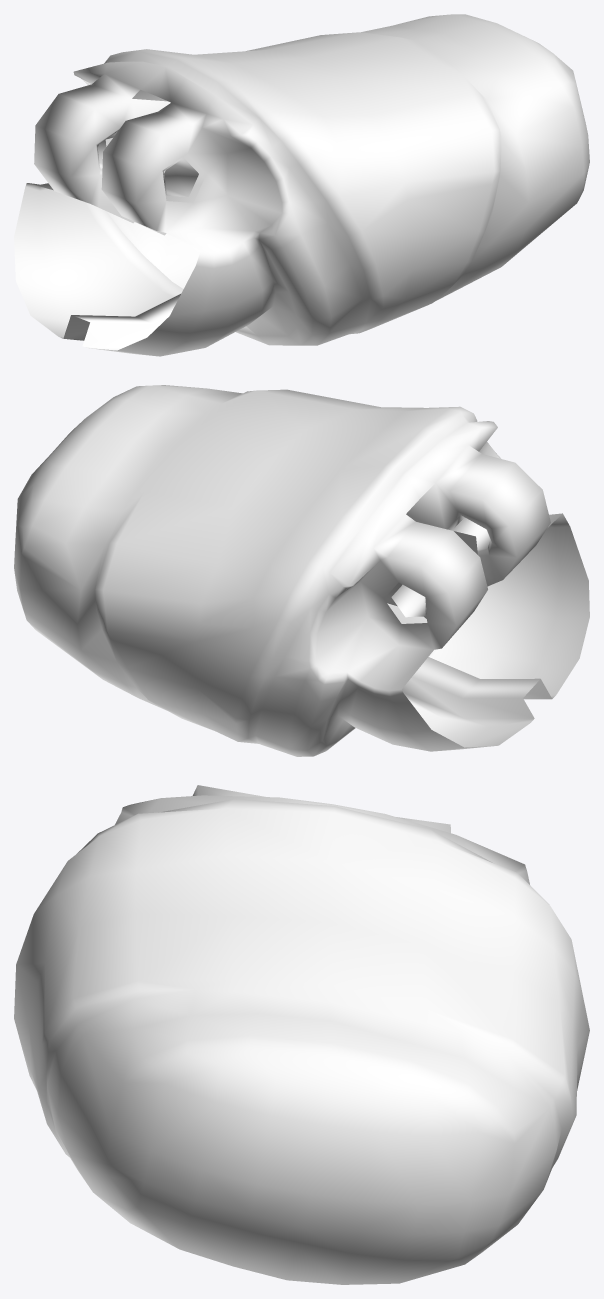
The model's file is RFinger13.dae.
3 views of the same model, one above another, from view 1: azimuth 30°, elevation 25°; view 2: azimuth 150°, elevation 25°; view 3: azimuth 270°, elevation 25° (orthographic). The views are drawn at different scales.
Parts seen in each view (by area): view 1: RFinger13; view 2: RFinger13; view 3: RFinger13.
Part boxes in pixels (x1,y1,x2,y2): RFinger13: (14, 14, 589, 356); RFinger13: (14, 385, 589, 756); RFinger13: (14, 785, 589, 1284).
Size of the model in its own units: 0.204 by 0.1613 by 0.1124.
1 material, 1 textured.
